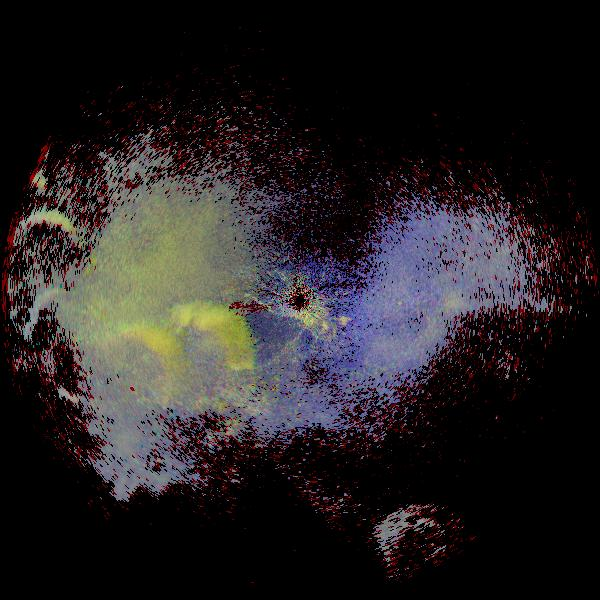roost: (110, 270, 275, 435), (56, 294, 206, 444)
